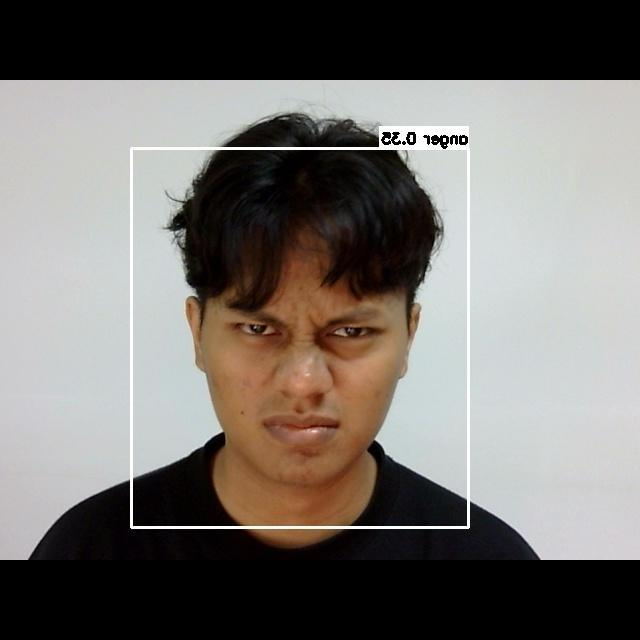Angry: (194, 261, 405, 463)
